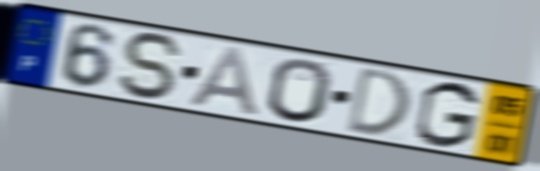6: (60, 22, 120, 92)
A: (185, 43, 263, 119)
D: (343, 64, 413, 138)
G: (413, 79, 483, 151)
O: (266, 56, 335, 126)
S: (117, 30, 188, 103)
